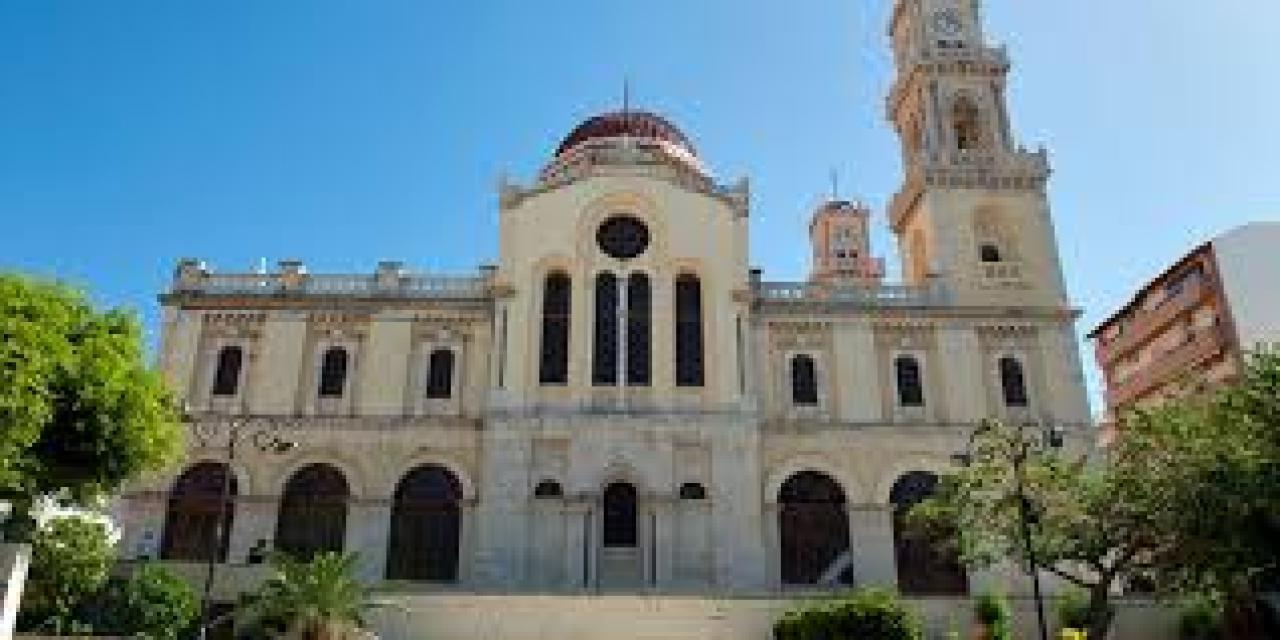Agios Minas: (105, 1, 1103, 582)
